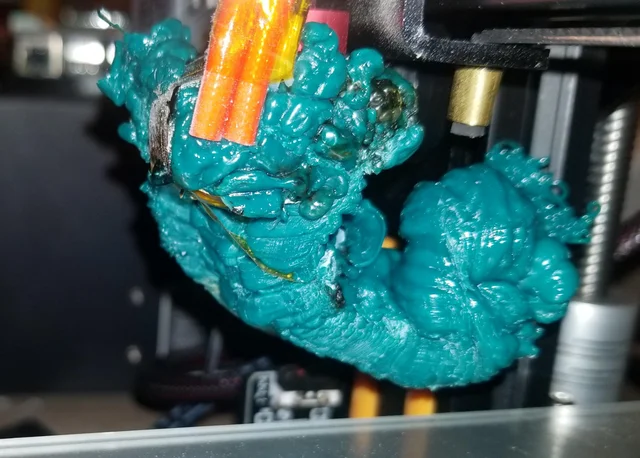Spaghetti: (79, 15, 612, 395)
